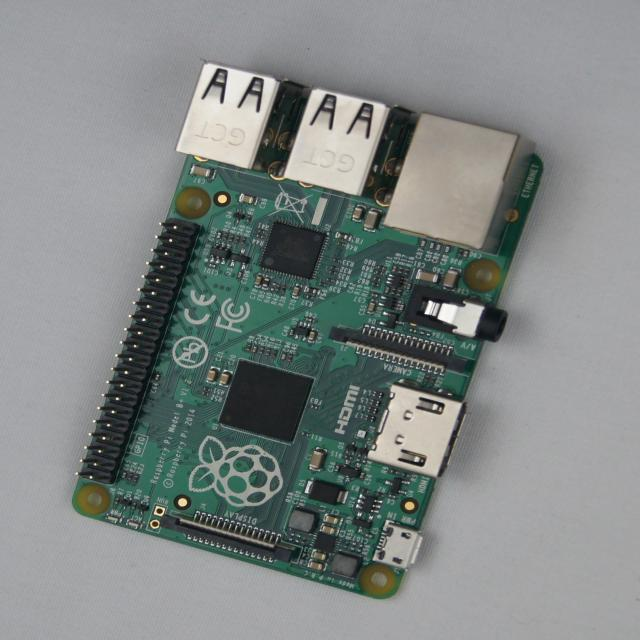Raspberry Pi 1 B-: (74, 64, 541, 597)
